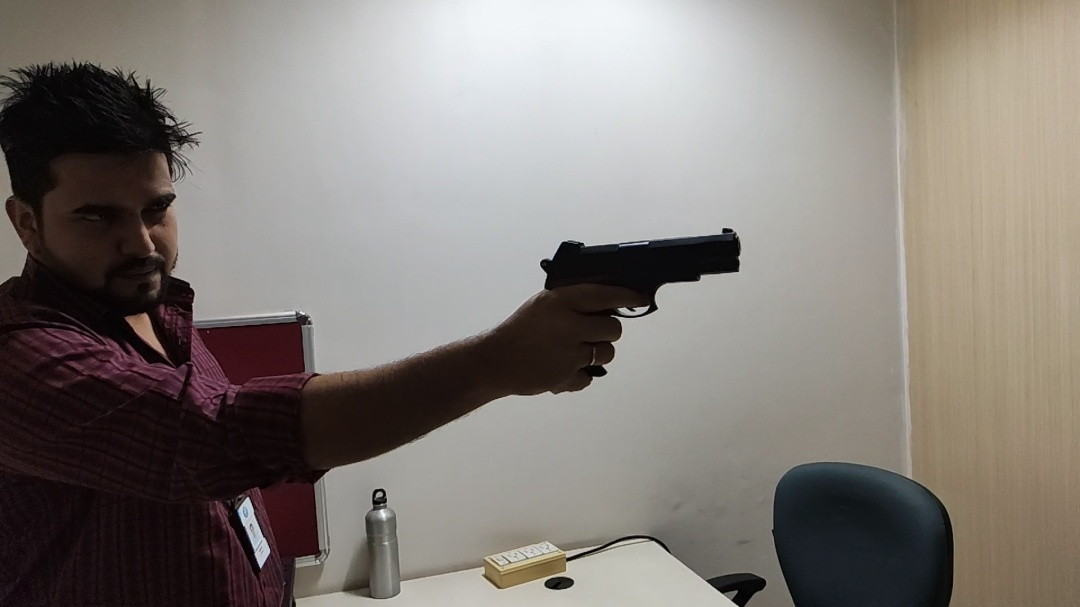gun: (538, 227, 746, 381)
